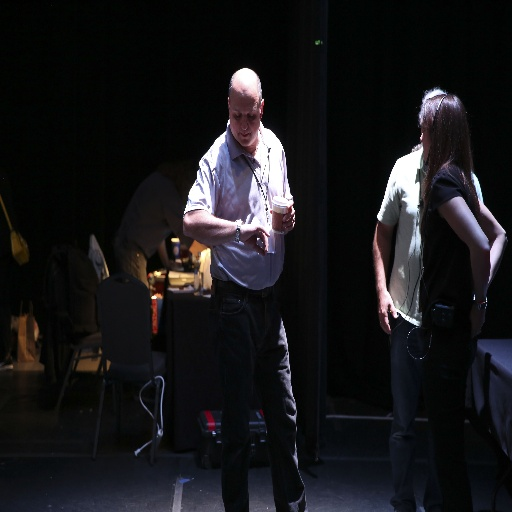hand: (268, 197, 296, 235), (241, 223, 270, 258), (377, 291, 398, 336), (469, 300, 485, 340), (167, 261, 177, 269)
